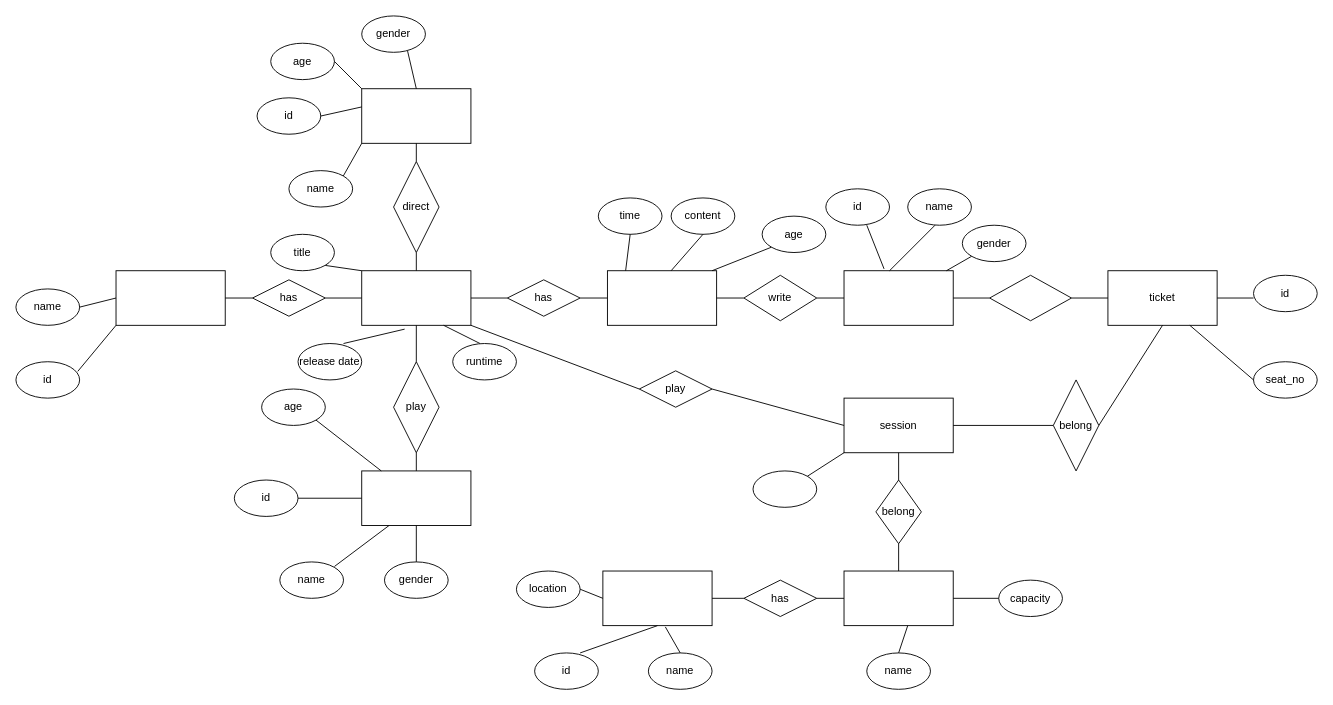
The diagram is 1333 pixels wide and 705 high, and some of its shapes have lost their labels. The centre of each missing label's shape, as x and y in pixels:
actor: (x=416, y=498)
buy: (x=1030, y=297)
cinema: (x=657, y=598)
comment: (x=662, y=297)
customer: (x=898, y=297)
date: (x=784, y=488)
director: (x=416, y=115)
genre: (x=170, y=297)
hall: (x=898, y=598)
movie: (x=416, y=297)
